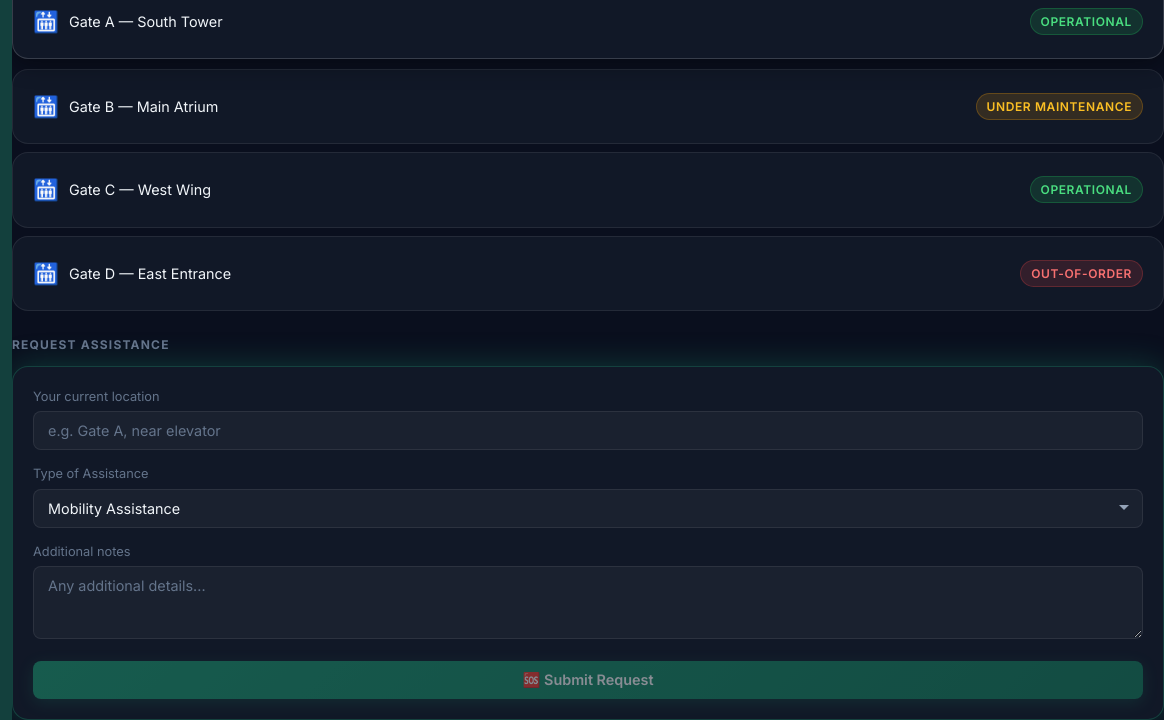
Test case: AccessPath › submit button becomes enabled when location is filled
(page scrolled)
Step 1. Type "Gate A, near elevator" into the field labelled "Your current location" → (588, 431), box [33,412,1143,450]
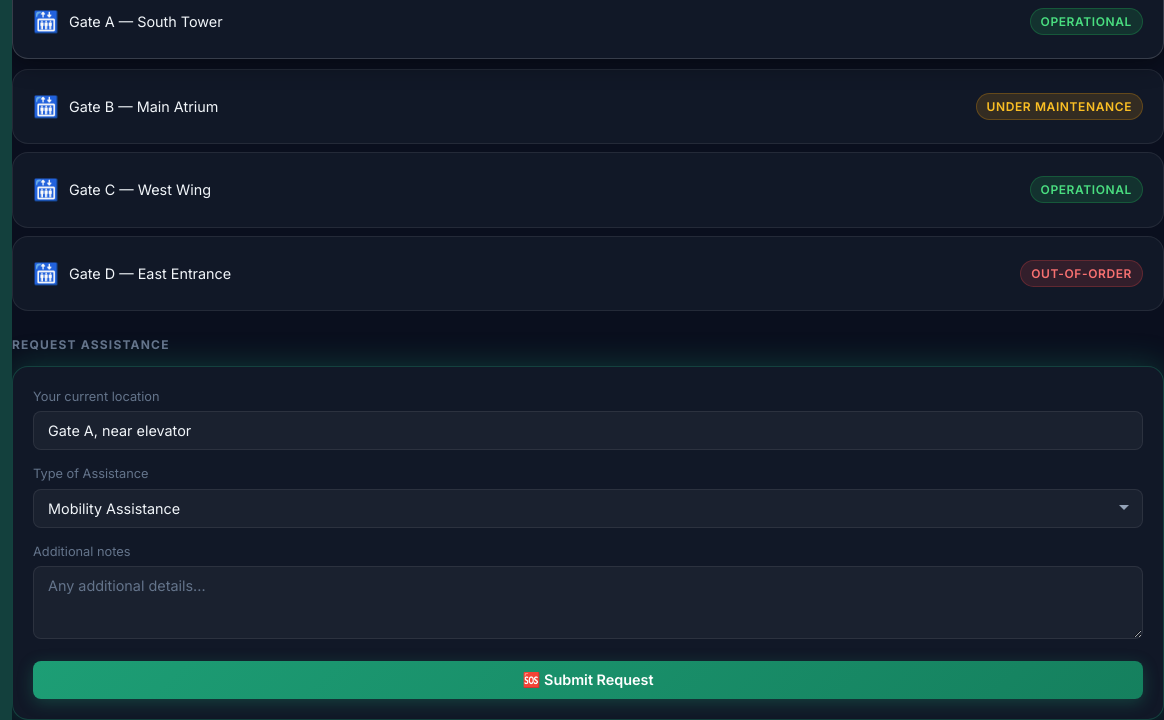
Check: the button "🆘 Submit Request" is enabled, box [33,661,1143,699]
